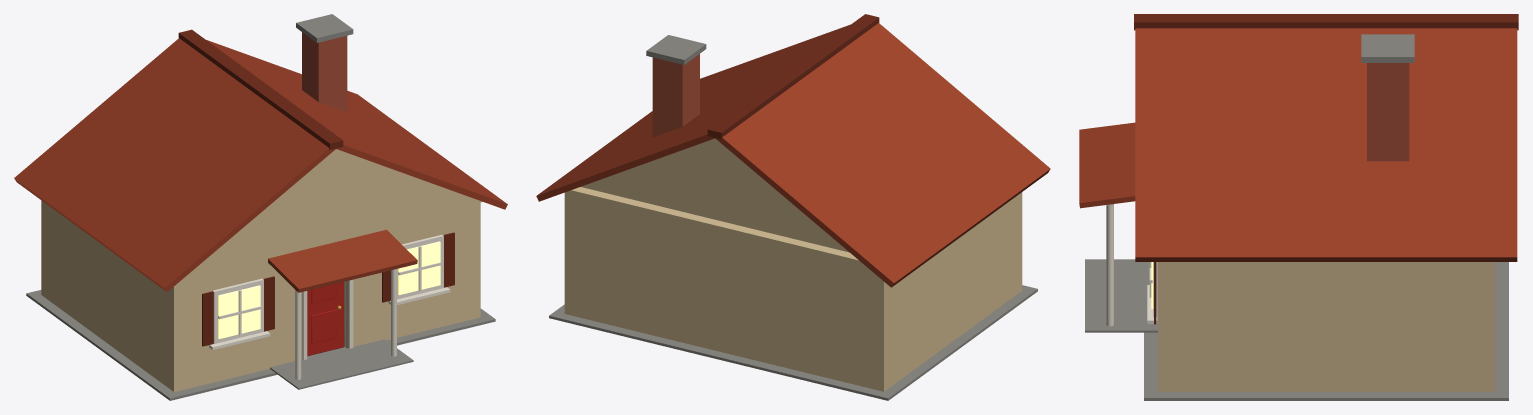
Rendered from house.glb.
3 renders of one model, left to right at view 1: azimuth 30°, elevation 25°; view 2: azimuth 150°, elevation 25°; view 3: azimuth 270°, elevation 25°, orthographic. The views are drawn at different scales.
Parts seen in each view (by area): view 1: RoofL, GableFront, WallLeft, WallFrontL, WallFrontR, RoofR, PorchRoof, Plinth, PorchSlab, Chimney, RidgeCap, WinGlass-1 (+13 smaller); view 2: RoofL, WallBack, WallLeft, GableBack, RoofR, Plinth, Chimney, RidgeCap, ChimneyCap, WallFrontL; view 3: RoofR, WallRight, Plinth, RidgeCap, PorchRoof, PorchSlab, Chimney, WallBack, WallFrontR, ChimneyCap, PorchPost1.
Boxes of the visible parts, x1,y1,x2,y2 form: RoofL: [14, 38, 335, 291]; GableFront: [189, 149, 482, 273]; WallLeft: [47, 204, 168, 387]; WallFrontL: [168, 245, 306, 391]; WallFrontR: [346, 202, 480, 348]; RoofR: [206, 40, 507, 209]; PorchRoof: [268, 229, 417, 292]; Plinth: [26, 290, 495, 400]; PorchSlab: [270, 339, 413, 389]; Chimney: [302, 32, 347, 112]; RidgeCap: [178, 29, 343, 149]; WinGlass-1: [218, 285, 260, 338]; RoofL: [715, 23, 1050, 287]; WallBack: [564, 187, 889, 391]; WallLeft: [889, 196, 1016, 387]; GableBack: [581, 138, 849, 252]; RoofR: [536, 24, 850, 201]; Plinth: [549, 285, 1037, 400]; Chimney: [652, 54, 699, 137]; RidgeCap: [707, 14, 879, 139]; ChimneyCap: [646, 35, 706, 64]; WallFrontL: [1016, 192, 1022, 294]; RoofR: [1135, 28, 1517, 261]; WallRight: [1172, 262, 1480, 391]; Plinth: [1144, 262, 1508, 400]; RidgeCap: [1134, 14, 1518, 30]; PorchRoof: [1079, 122, 1135, 208]; PorchSlab: [1085, 259, 1157, 332]; Chimney: [1367, 63, 1409, 161]; WallBack: [1480, 262, 1494, 391]; WallFrontR: [1158, 262, 1171, 391]; ChimneyCap: [1361, 34, 1414, 62]; PorchPost1: [1106, 204, 1113, 326].
Size of what is drawn, in the model's own units: 8.97 by 6.07 by 7.82.
